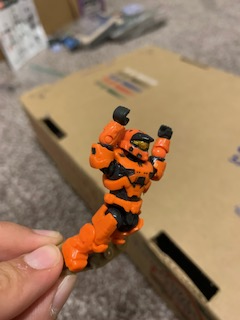spartan: (61, 106, 174, 273)
up: (83, 105, 174, 198)
